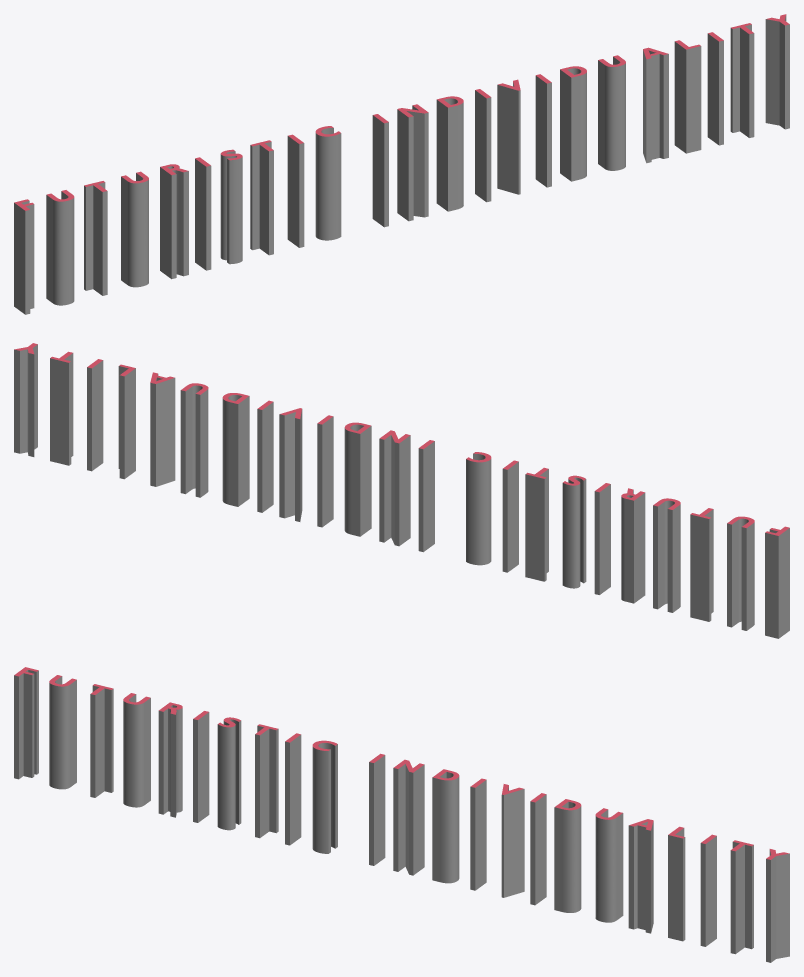
The model's file is futuristicIndividualityText.obj.
3 views of the same model, one above another, from view 1: azimuth 30°, elevation 25°; view 2: azimuth 150°, elevation 25°; view 3: azimuth 330°, elevation 25° (orthographic).
Bounding box in the file's own units: 38.88 × 5 × 1.03.
